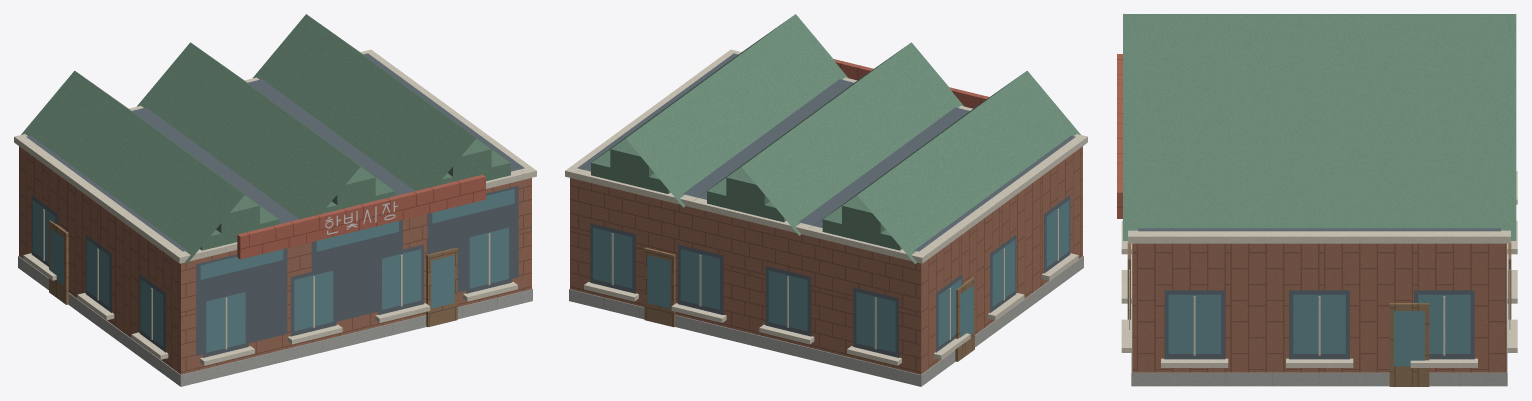
File: q03-market-hall.glb
3 views of the same model, side by side, from view 1: azimuth 30°, elevation 25°; view 2: azimuth 150°, elevation 25°; view 3: azimuth 270°, elevation 25° (orthographic). The views are drawn at different scales.
Size of the model in its own units: 10.46 by 4.9 by 8.57.
Materials: 9 (8 with a texture image).
